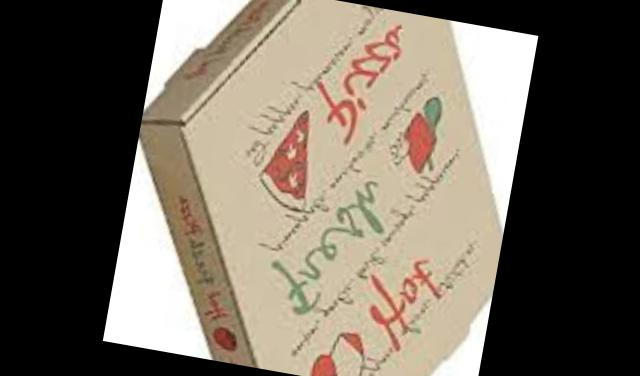cardboard paper: (140, 0, 503, 376)
